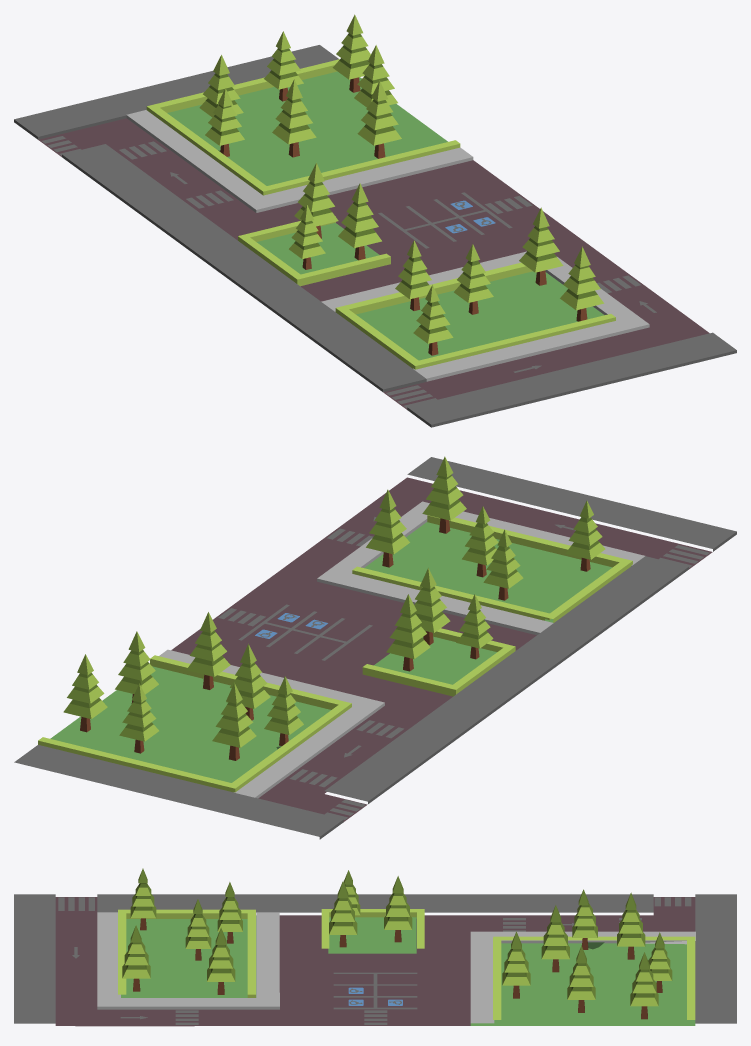
Rendered from parking_lvl_1.FBX.
3 views of the same model, one above another, from view 1: azimuth 30°, elevation 25°; view 2: azimuth 150°, elevation 25°; view 3: azimuth 270°, elevation 25° (orthographic). The views are drawn at different scales.
Parts seen in each view (by area): view 1: parking_lvl_1; view 2: parking_lvl_1; view 3: parking_lvl_1.
Boxes of the visible parts, x1=… form: parking_lvl_1: x1=14, y1=14, x2=736, y2=427; parking_lvl_1: x1=14, y1=456, x2=736, y2=839; parking_lvl_1: x1=14, y1=868, x2=736, y2=1026.
Bounding box in the file's own units: 5500 × 1436 × 13000.
